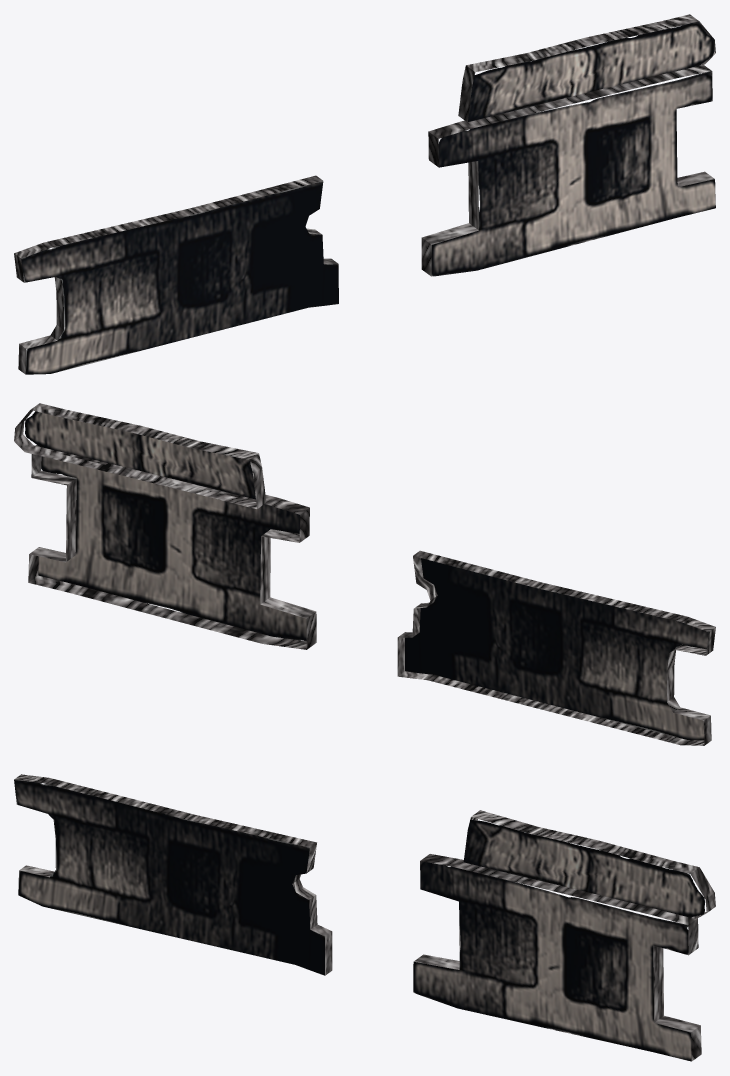
Rendered from brickStack.fbx.
3 views of the same model, one above another, from view 1: azimuth 30°, elevation 25°; view 2: azimuth 150°, elevation 25°; view 3: azimuth 330°, elevation 25° (orthographic). The views are drawn at different scales.
Parts seen in each view (by area): view 1: polySurface2, polySurface1; view 2: polySurface2, polySurface1; view 3: polySurface2, polySurface1.
Part boxes in pixels (x1,y1,x2,y2): polySurface2: (421, 14, 715, 276); polySurface1: (14, 175, 338, 374); polySurface2: (14, 403, 316, 649); polySurface1: (397, 550, 715, 745); polySurface2: (413, 810, 715, 1061); polySurface1: (14, 774, 332, 975).
Bounding box in the file's own units: 7.49 × 1.97 × 0.3156.
